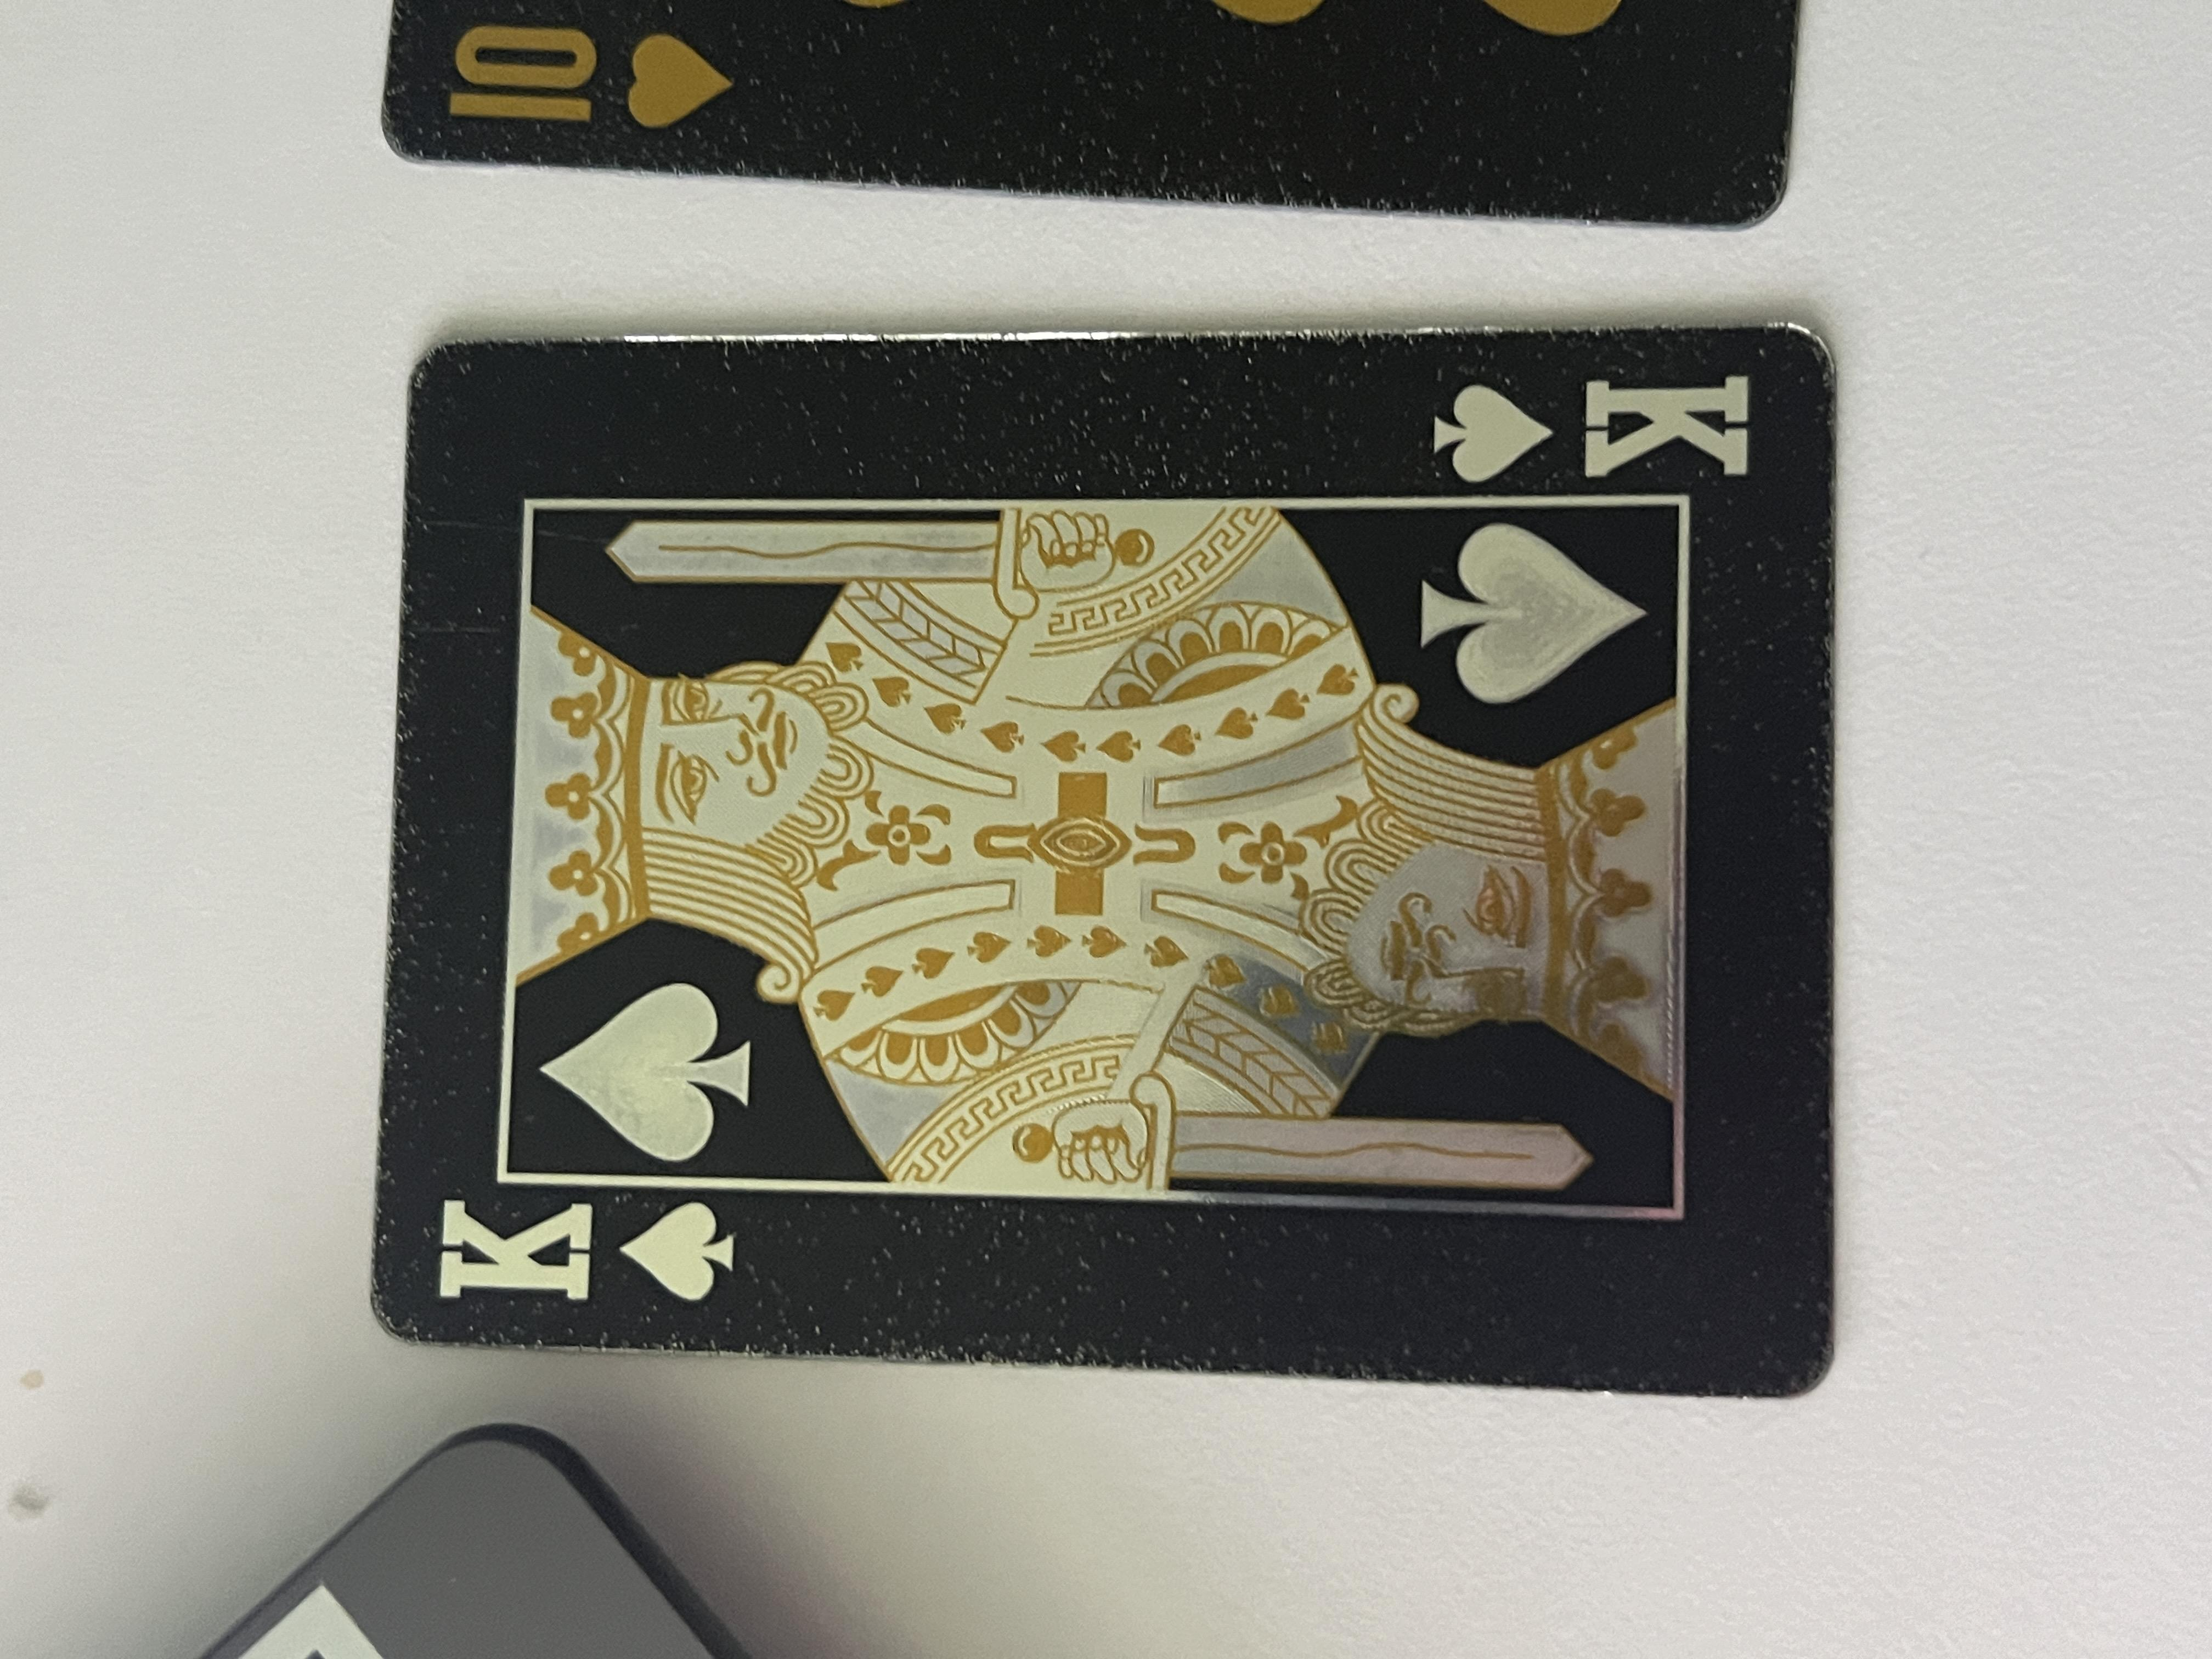10H: (2026, 300, 2202, 558)
KS: (1517, 1063, 1749, 1317), (453, 295, 639, 568)
